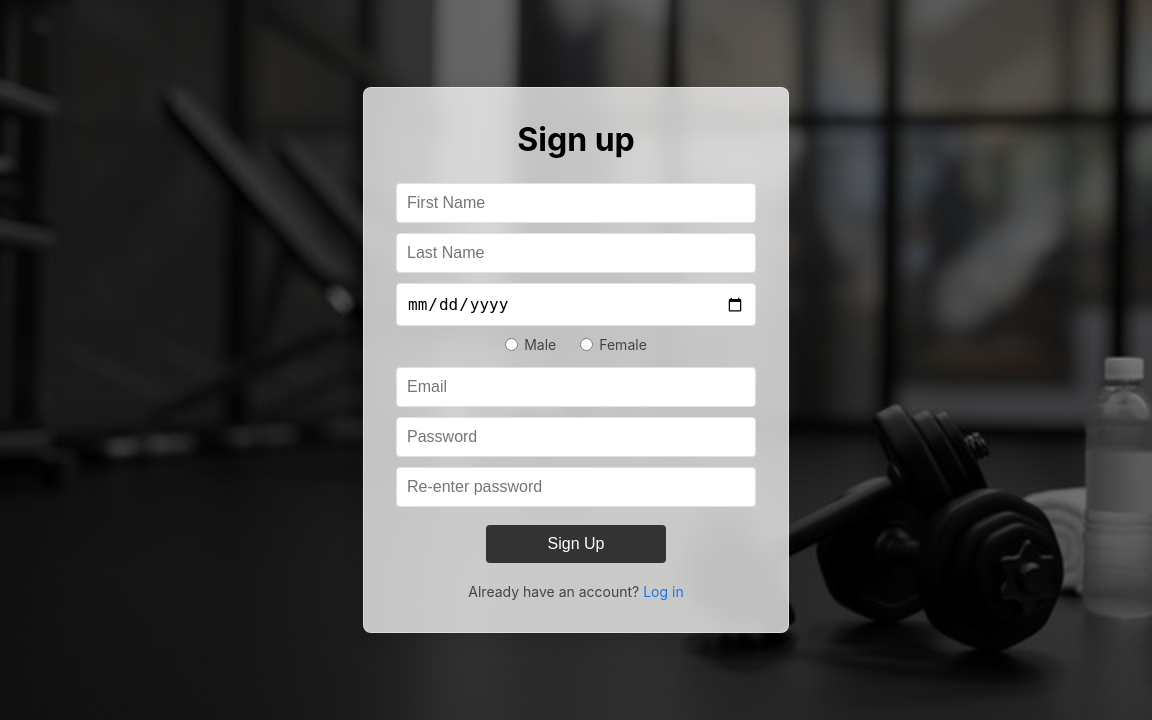
Scenario: TC-09: shows an error message when the two password fields do not match
Fill in the required fields
Type "John" into the field with placeholder "First Name" at (576, 203), box [396,183,756,223]
Type "Doe" into the field with placeholder "Last Name" at (576, 253), box [396,233,756,273]
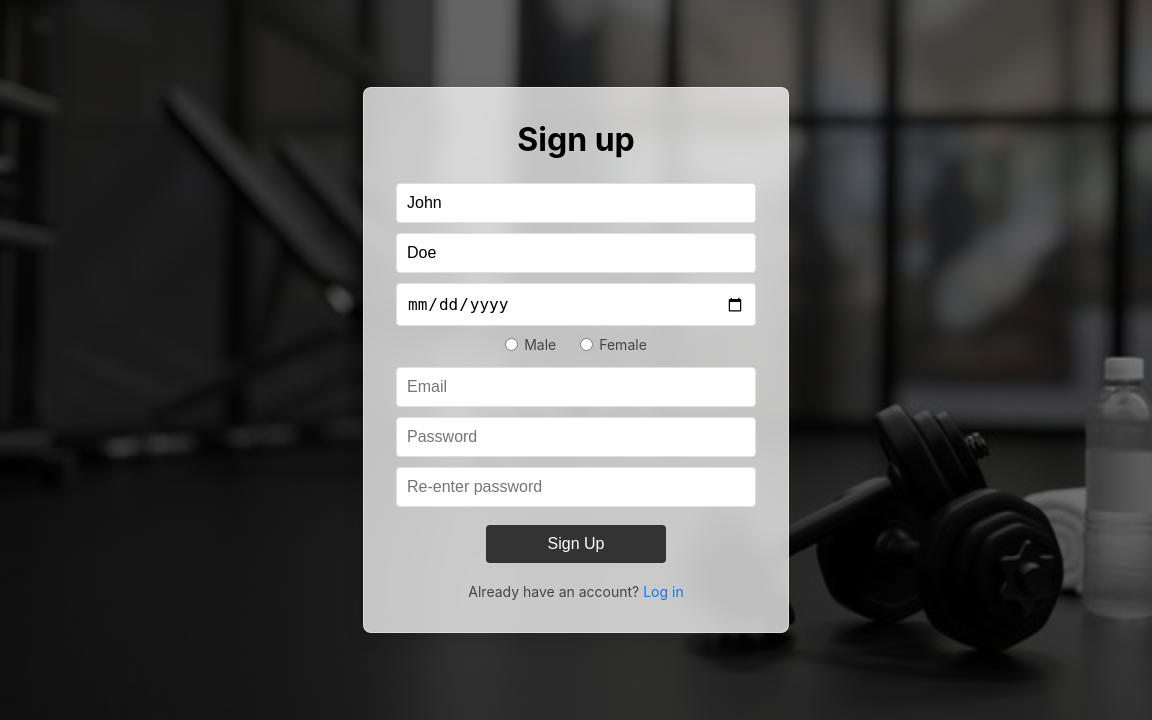
Type "2000-01-01" into the date field with placeholder "Birthday" at (576, 304), box [396,283,756,326]
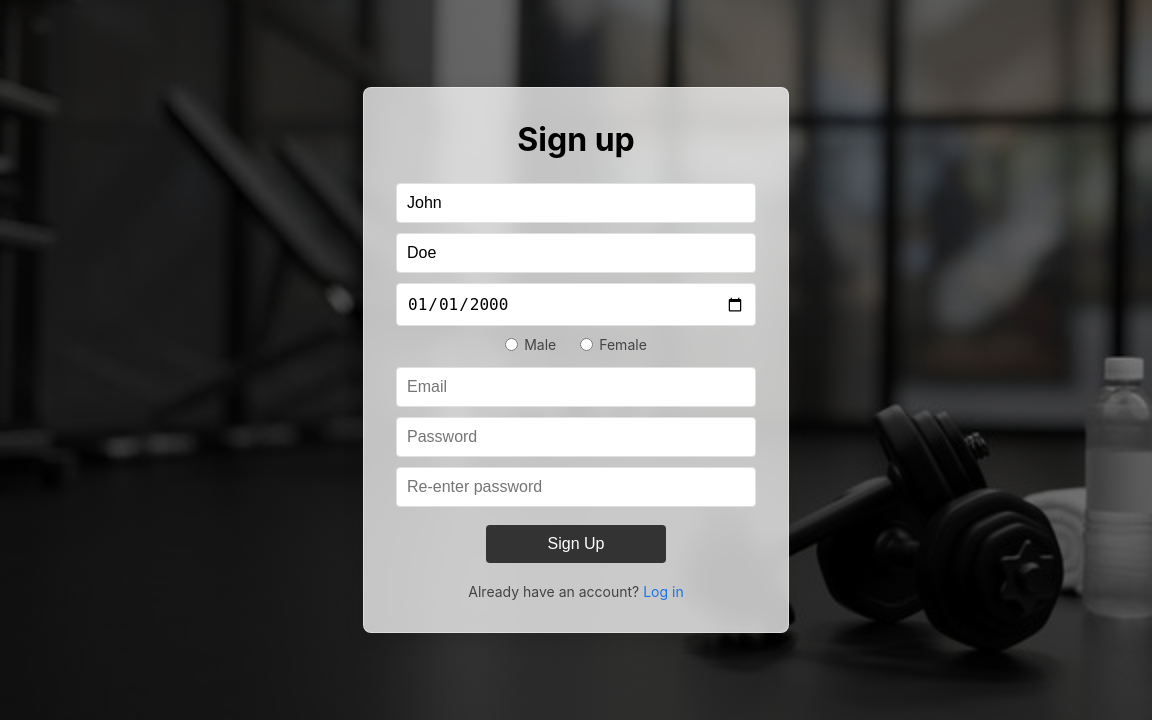
Type "john.doe@example.com" into the field with placeholder "Email" at (576, 387), box [396,367,756,407]
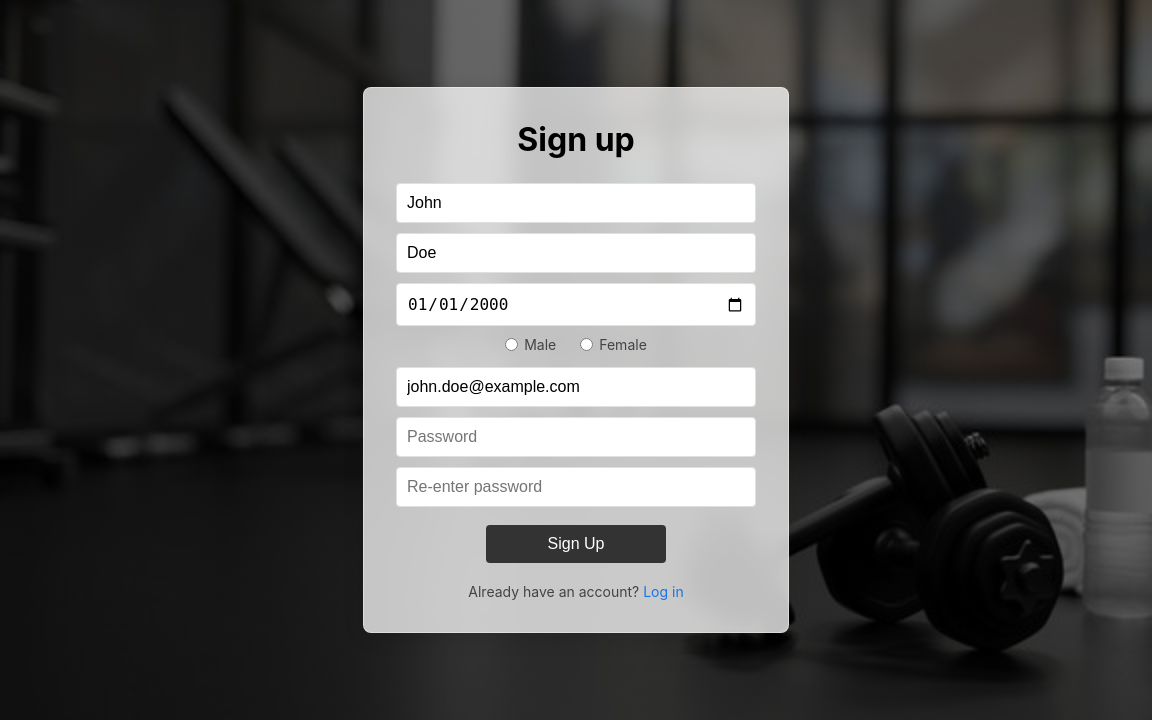
Intentionally mismatched passwords
Type "password123" into the password field with placeholder "Password" at (576, 437), box [396,417,756,457]
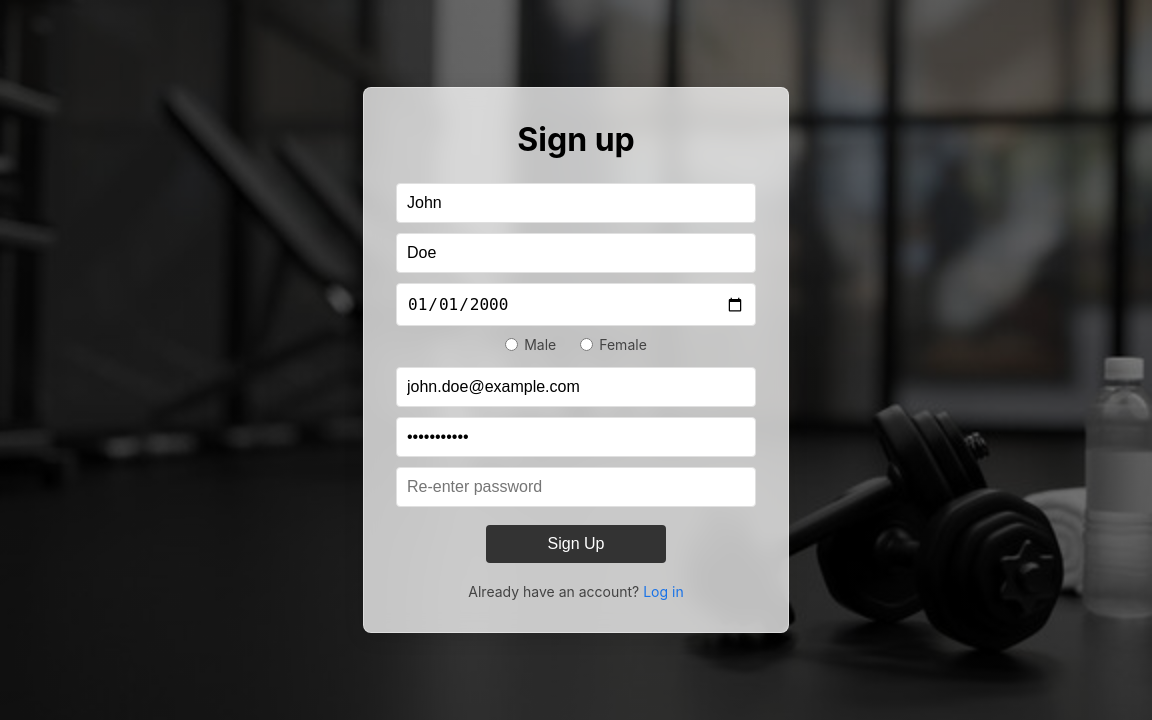
Type "differentpassword" into the password field with placeholder "Re-enter password" at (576, 487), box [396,467,756,507]
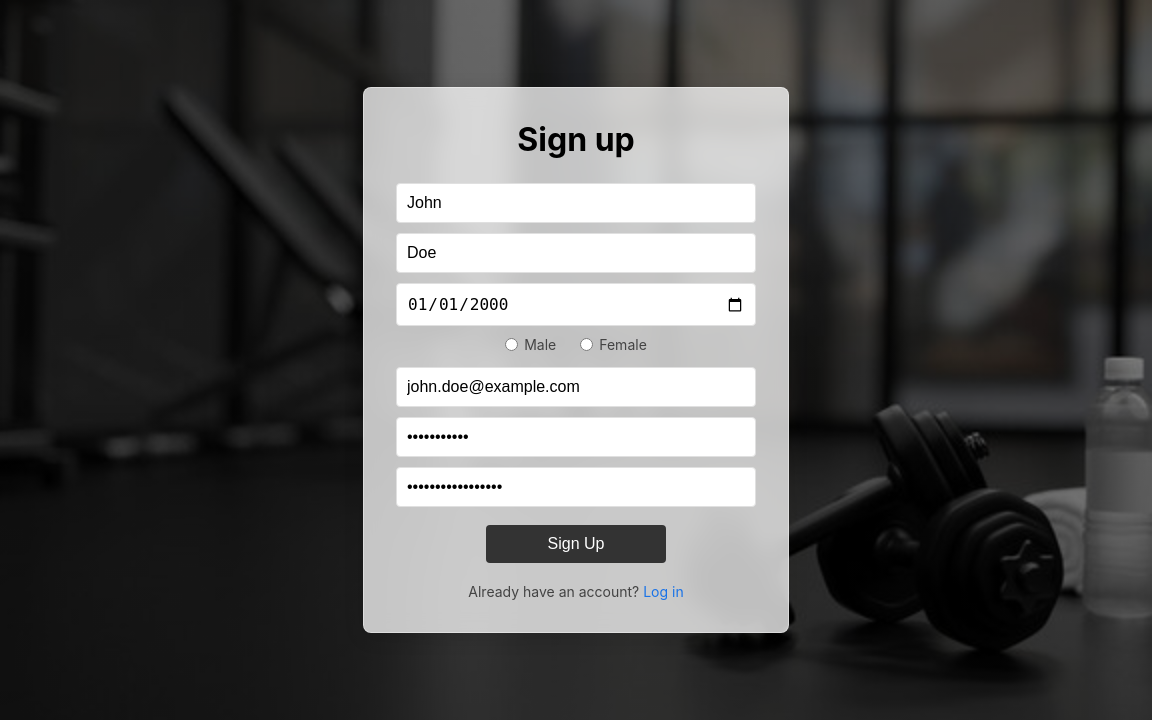
Click the button "Sign Up" at (576, 544), box [486,525,666,563]
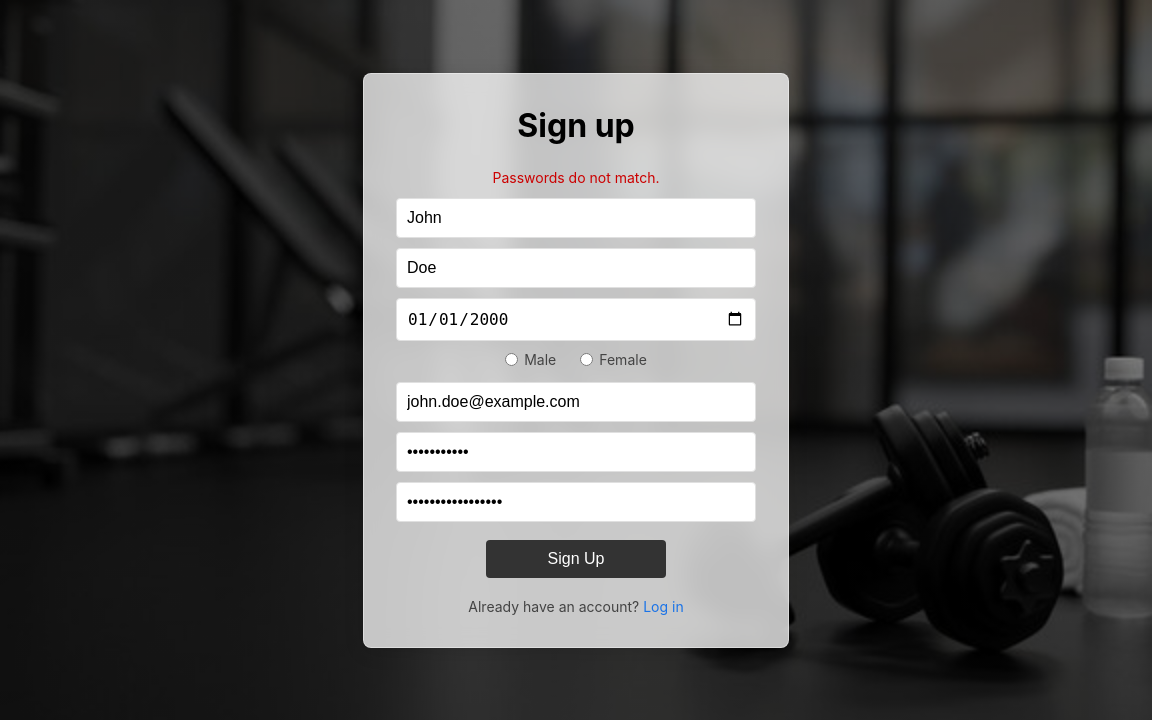
Check: the text "Passwords do not match." is shown, box [492,168,660,186]
